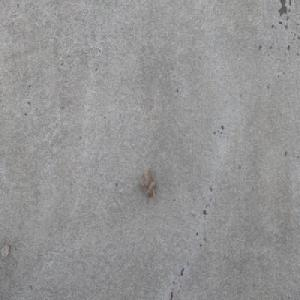Rock: (136, 166, 156, 199)
